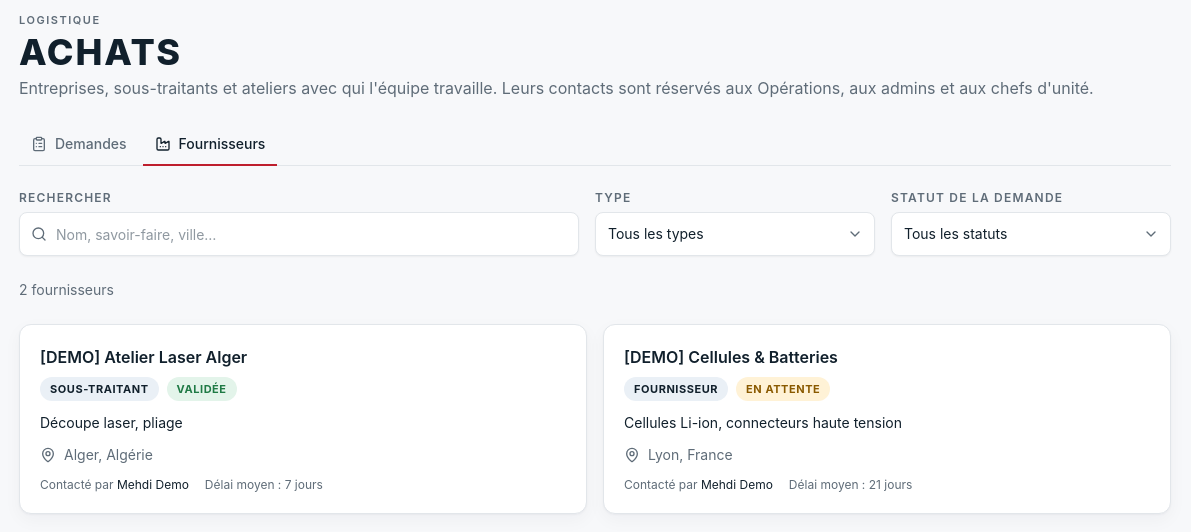
SuppliersPage › searches without accents and filters by type and status
The image size is (1191, 532).
Expected: the text "2 fournisseurs" is shown, [19,281,114,298]
Type "decoupe" into the search field labelled "Rechercher".
click(299, 234); type("decoupe")  # box [19,212,579,256]
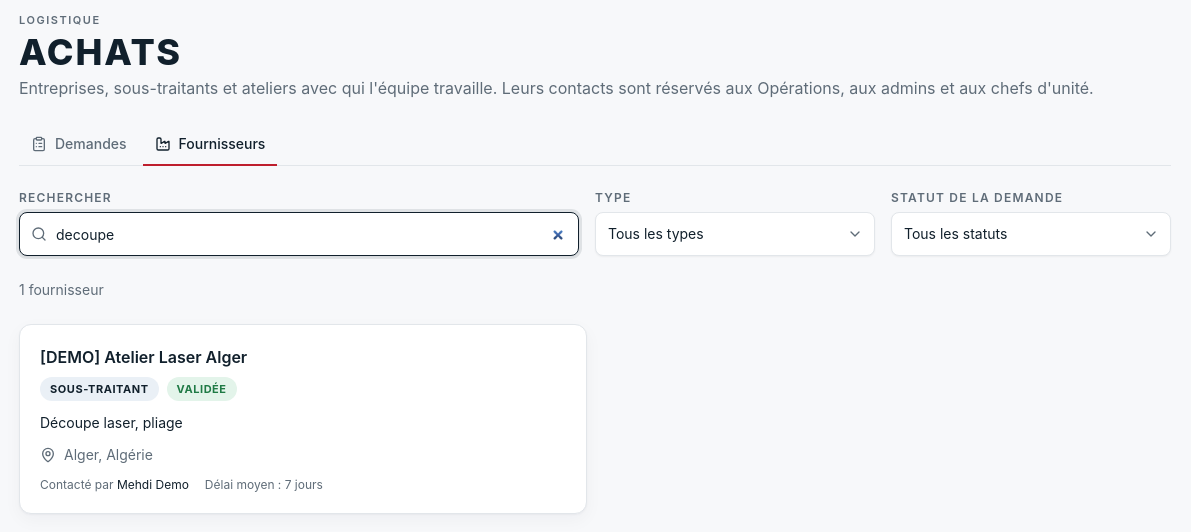
Expected: the heading "[DEMO] Atelier Laser Alger" is shown, [40,345,247,369]
Expected: the text "1 fournisseur" is shown, [19,281,104,298]
Clear the search field labelled "Rechercher" at (299, 234), box [19,212,579,256]
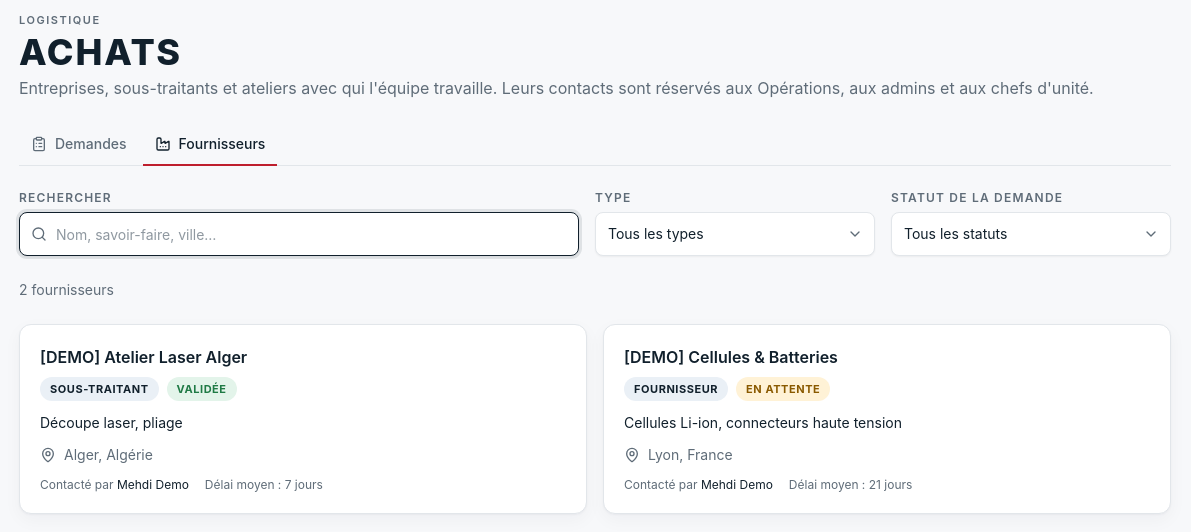
Select "Fournisseur" in the dropdown labelled "Type" at (735, 234), box [595,212,875,256]
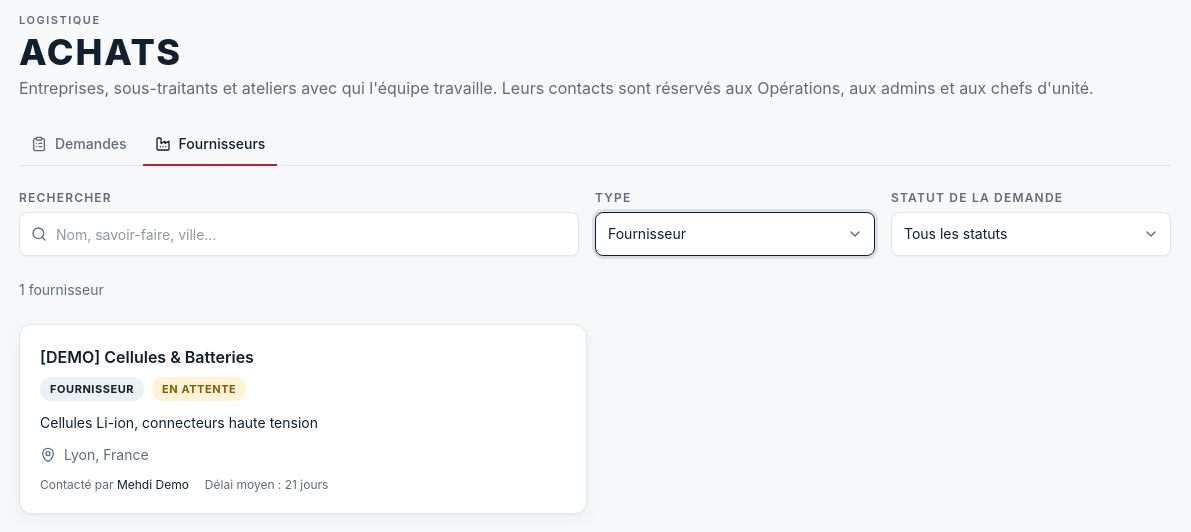
Expected: the heading "[DEMO] Cellules & Batteries" is shown, [40,345,254,369]
Expected: the text "1 fournisseur" is shown, [19,281,104,298]
Select "Refusée" in the dropdown labelled "Statut de la demande" at (1031, 234), box [891,212,1171,256]
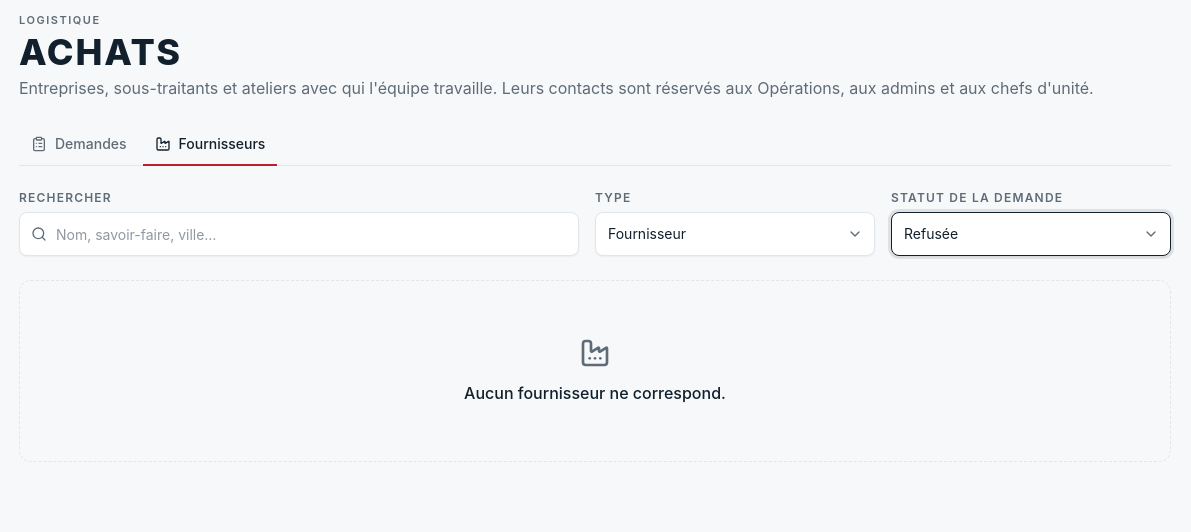
Expected: the text "Aucun fournisseur ne correspond." is shown, [464,381,726,405]
